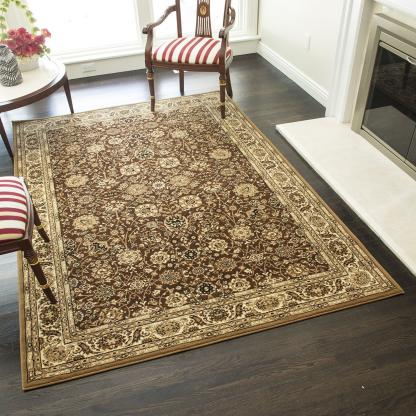Carpet: (15, 90, 403, 389)
